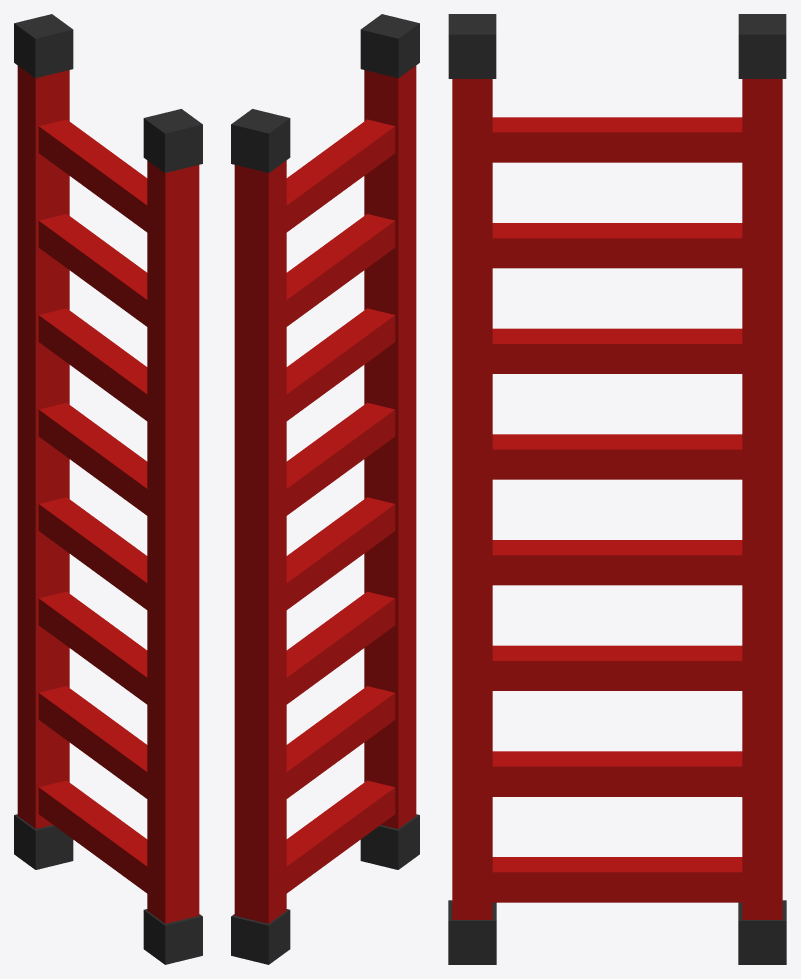
3 views of the same model, side by side, from view 1: azimuth 30°, elevation 25°; view 2: azimuth 150°, elevation 25°; view 3: azimuth 270°, elevation 25° (orthographic). The views are drawn at different scales.
Visible parts, largest first — view 1: G-15; view 2: G-15; view 3: G-15.
Boxes of the visible parts, bbox=[...] form: G-15: bbox=[14, 14, 202, 964]; G-15: bbox=[231, 14, 419, 964]; G-15: bbox=[448, 14, 786, 964].
Size of the model in its own units: 29.61 by 620 by 204.
